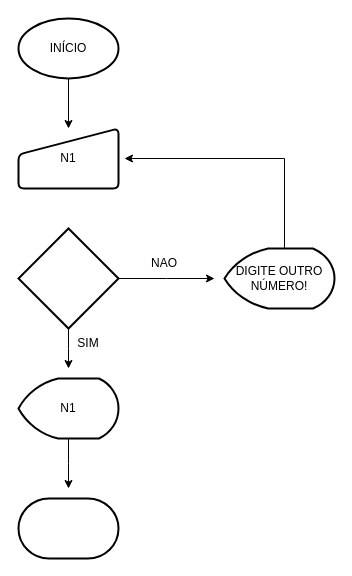
Image size: 352x576. Some labels were removed from this diagram. Here are the shapes that lost their labels. From the top down, the centre of each, then its label:
the point at 68,278: N1 > 5 N1 < 10
the point at 68,528: FIM
